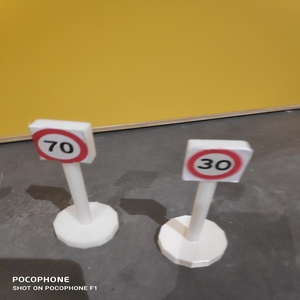30-bord: (188, 149, 245, 181)
70-bord: (31, 128, 89, 164)
